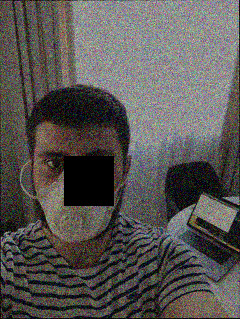with_mask: (33, 140, 121, 242)
